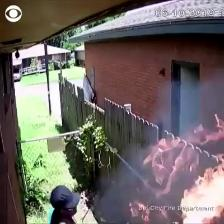person: (50, 186, 80, 223)
